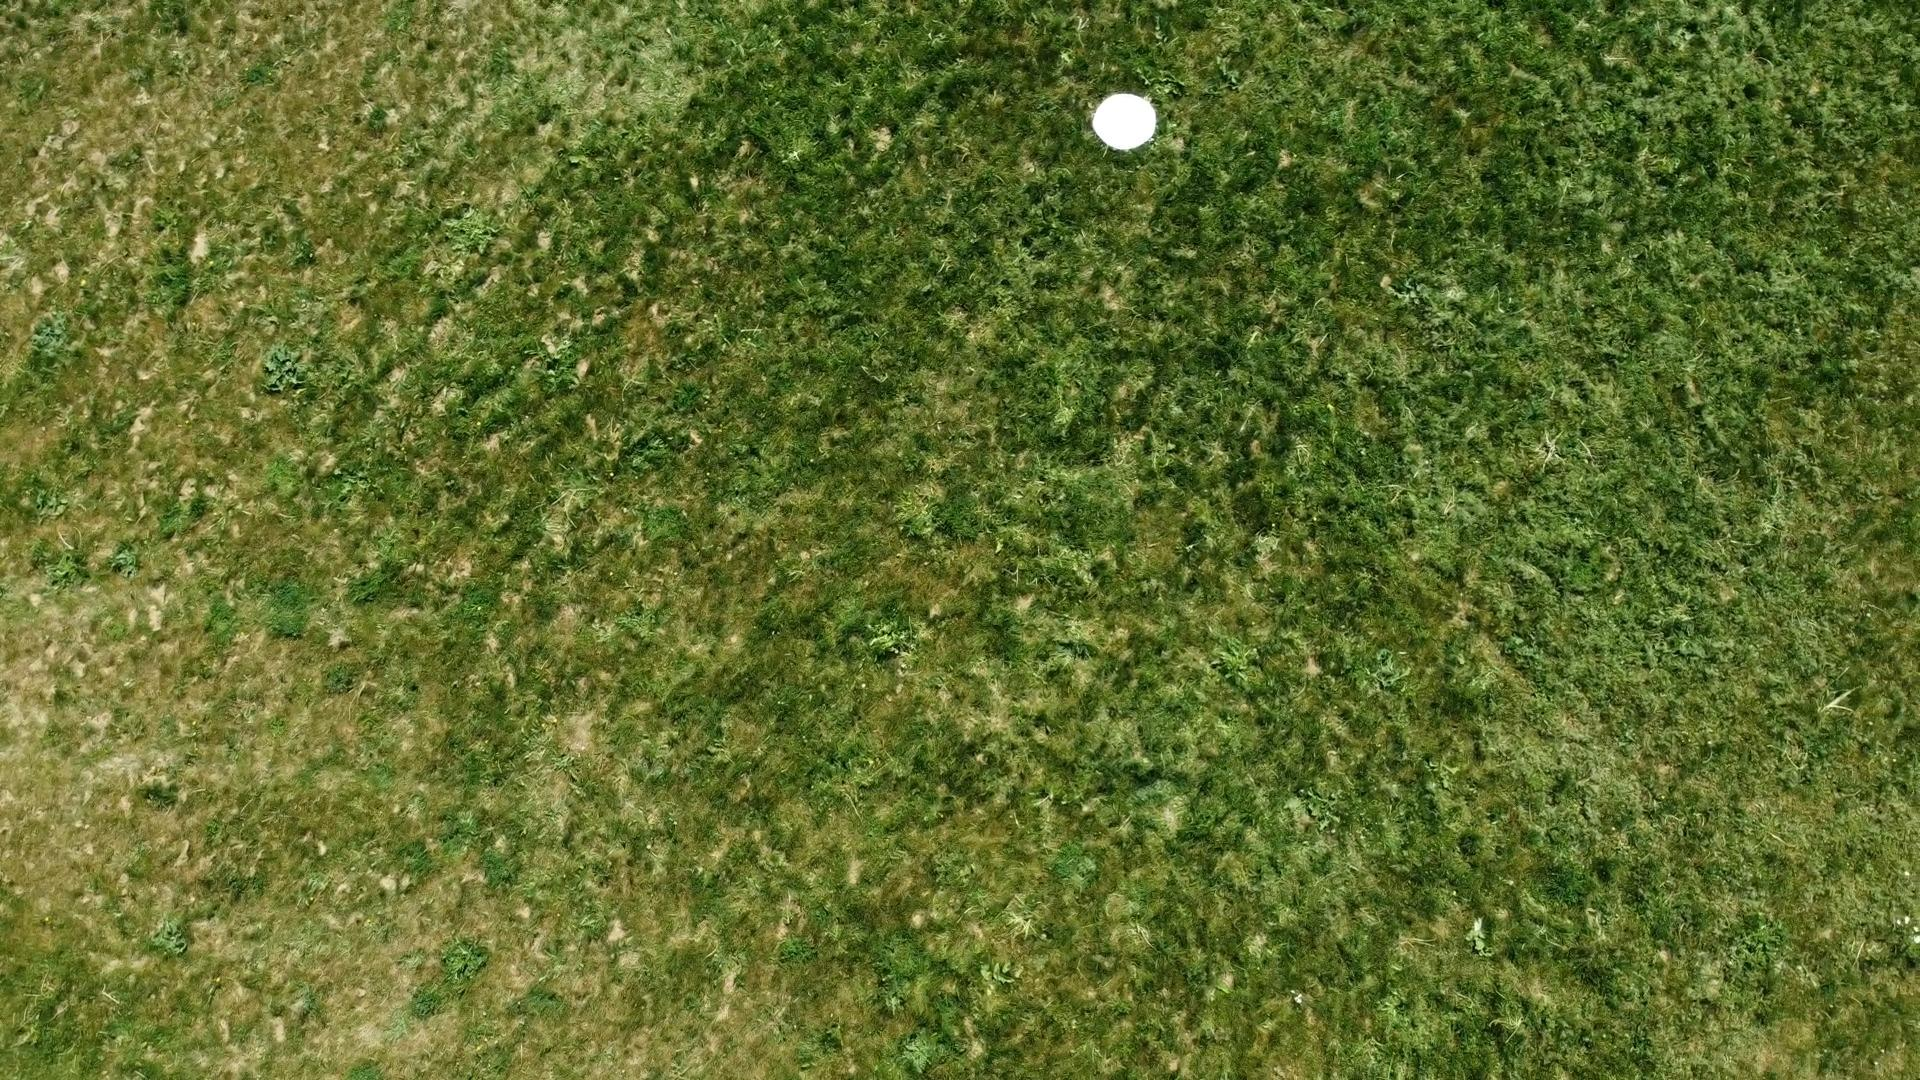Blue: (1092, 91, 1159, 150)
